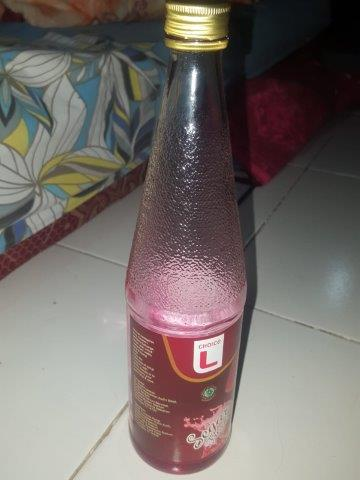botolkaca: (125, 1, 249, 474)
